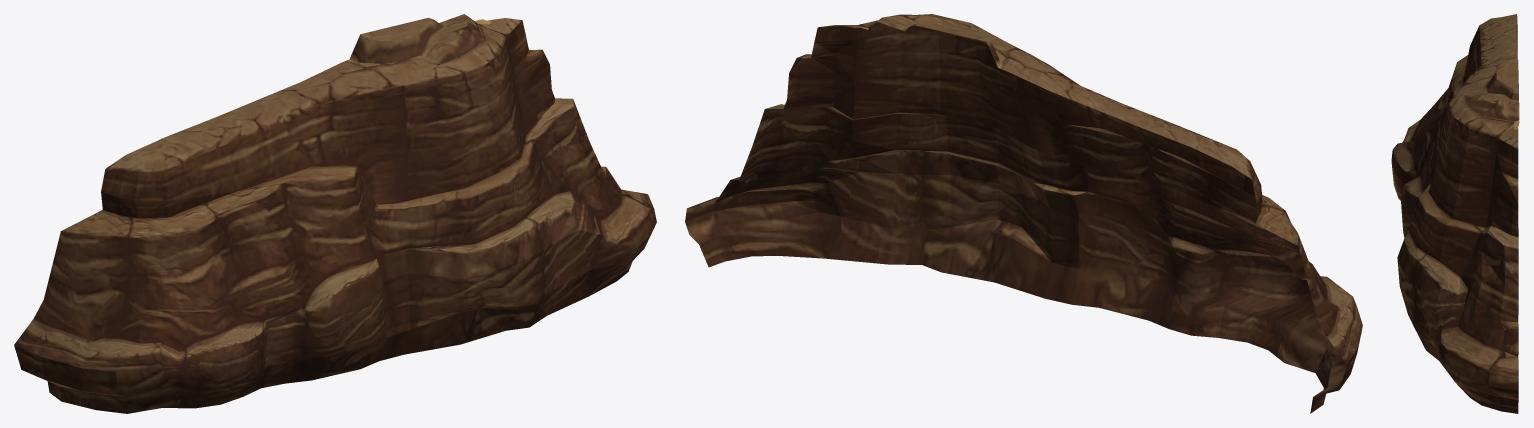
Rendered from nashgar_construct_rock_large02_03.FBX.
3 views of the same model, side by side, from view 1: azimuth 30°, elevation 25°; view 2: azimuth 150°, elevation 25°; view 3: azimuth 270°, elevation 25° (orthographic). The views are drawn at different scales.
Visible parts, largest first — view 1: nashgar_construct_rock_large02_03; view 2: nashgar_construct_rock_large02_03; view 3: nashgar_construct_rock_large02_03.
Part boxes in pixels (x1,y1,x2,y2): nashgar_construct_rock_large02_03: (14,14,656,413); nashgar_construct_rock_large02_03: (685,14,1362,413); nashgar_construct_rock_large02_03: (1391,14,1519,413).
Bounding box in the file's own units: 16.61 × 7.04 × 3.37.
